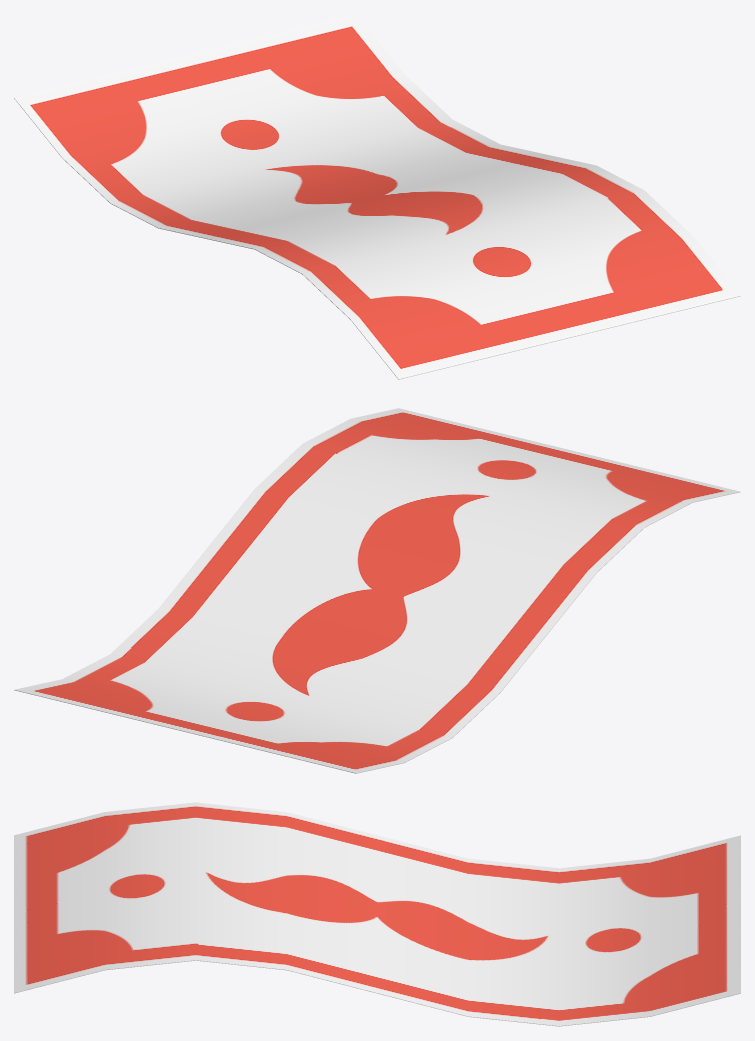
Rendered from billete_curvo.fbx.
3 renders of one model, top to bottom at view 1: azimuth 30°, elevation 25°; view 2: azimuth 150°, elevation 25°; view 3: azimuth 270°, elevation 25°, orthographic. The views are drawn at different scales.
Parts seen in each view (by area): view 1: billete_curvo; view 2: billete_curvo; view 3: billete_curvo.
Boxes of the visible parts, x1,y1,x2,y2 form: billete_curvo: (14,14,740,379); billete_curvo: (14,408,740,773); billete_curvo: (14,802,740,1026).
Bounding box in the file's own units: 71.82 × 14.08 × 140.
Materials: 1 (1 with a texture image).
